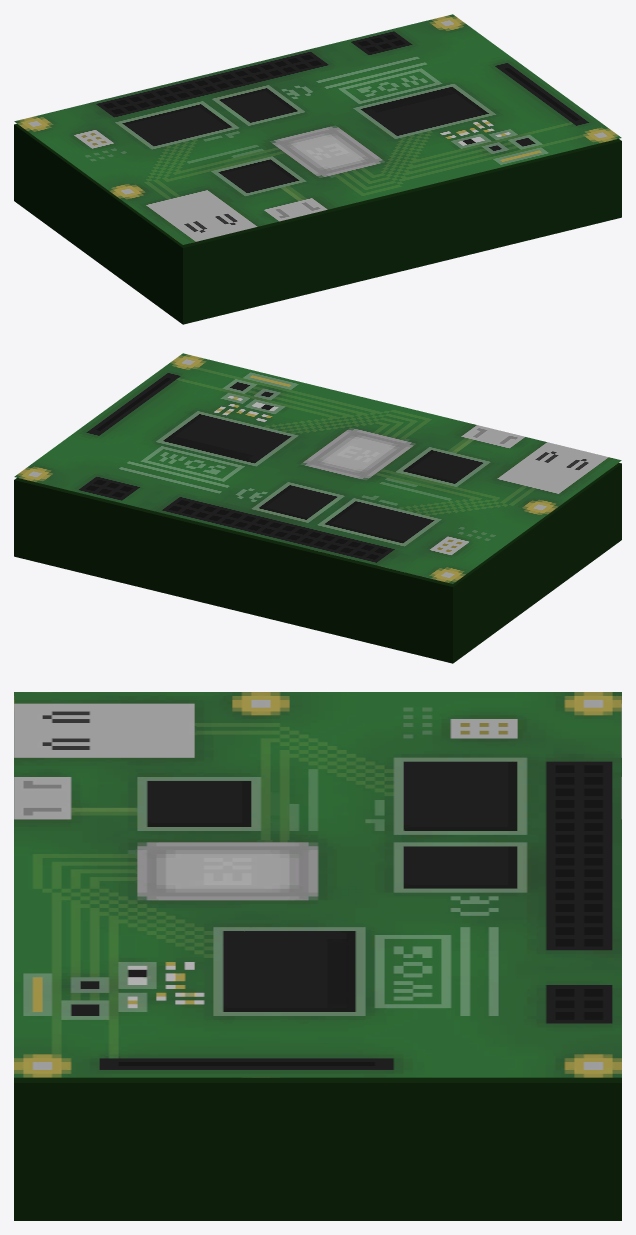
The model's file is microcontroller.obj.
3 renders of one model, top to bottom at view 1: azimuth 30°, elevation 25°; view 2: azimuth 150°, elevation 25°; view 3: azimuth 270°, elevation 25°, orthographic. The views are drawn at different scales.
Parts seen in each view (by area): view 1: Microcontroller2, Microcontroller1; view 2: Microcontroller2, Microcontroller1; view 3: Microcontroller2, Microcontroller1.
Boxes of the visible parts, x1=… form: Microcontroller2: x1=14, y1=14, x2=621, y2=244; Microcontroller1: x1=14, y1=124, x2=621, y2=324; Microcontroller2: x1=14, y1=353, x2=621, y2=583; Microcontroller1: x1=14, y1=463, x2=621, y2=663; Microcontroller2: x1=14, y1=692, x2=621, y2=1077; Microcontroller1: x1=14, y1=1077, x2=621, y2=1220.
Size of the model in its own units: 3 by 0.52 by 2.
Materials: 2 (1 with a texture image).
